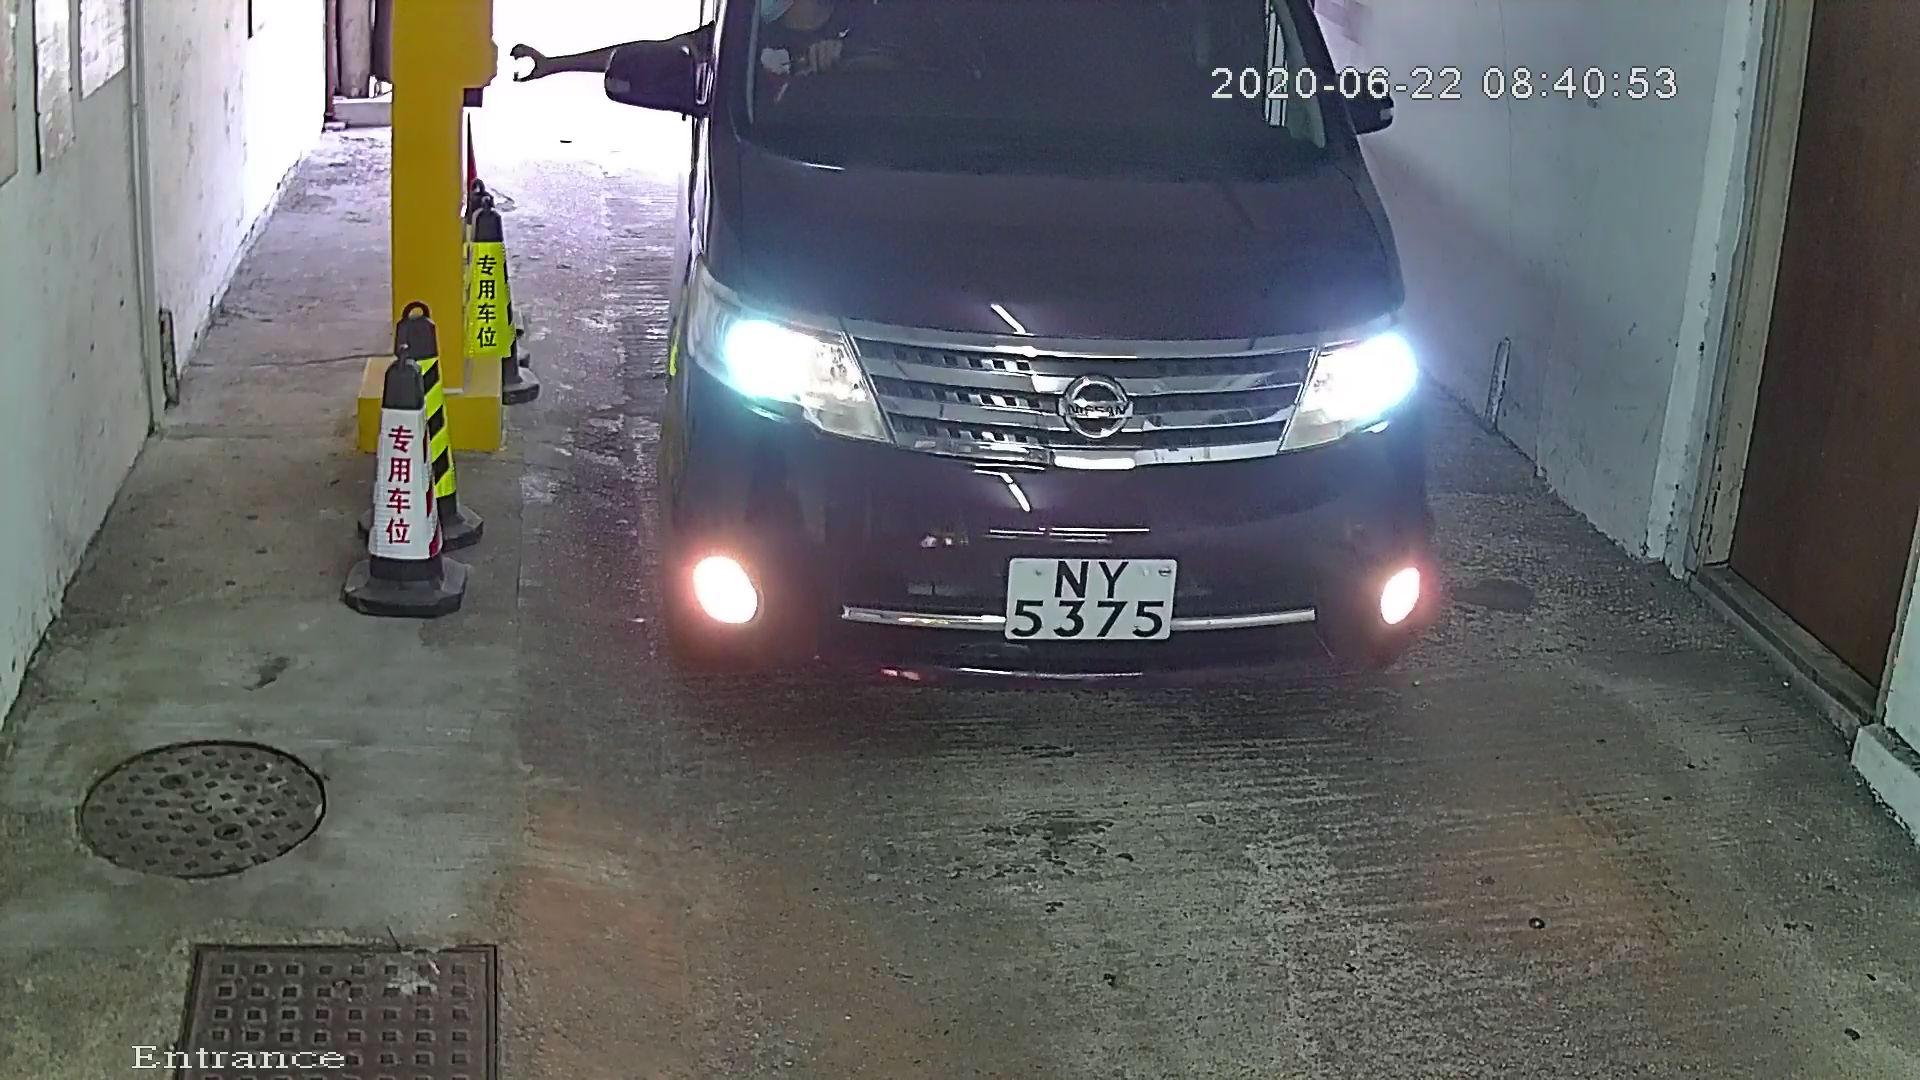privatecar: (608, 3, 1526, 787)
